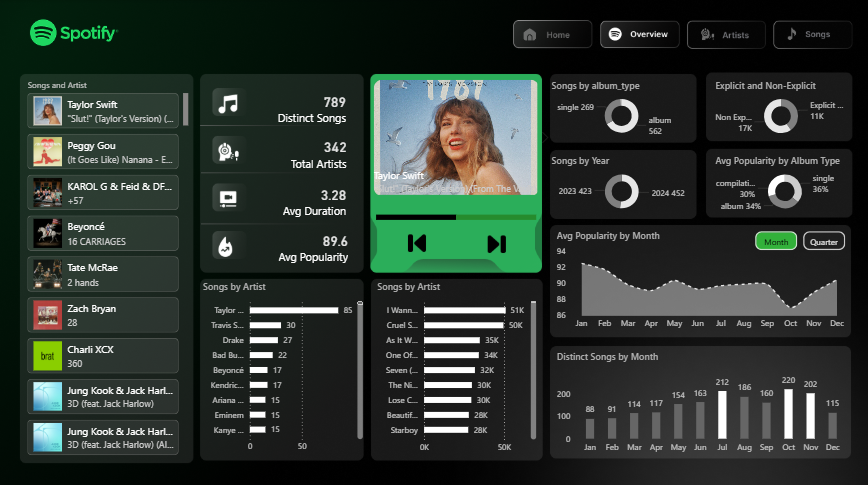

What the dashboard file says about the page in this screenshot:
{"tool":"powerbi","page":{"name":"overview","canvas":[1280,720],"ordinal":1},"visuals":[{"type":"clusteredBarChart","title":" Songs by Artist","fields":{"Y":["_Measures.Distinct Songs"],"Category":["Top-50-World.artist"]},"box":[296.3,413.4,245.1,263.4],"z":0},{"type":"clusteredBarChart","title":" Songs by Artist","fields":{"Y":["Sum(Top-50-World.popularity)"],"Category":["Top-50-World.song"]},"box":[552.2,413.4,243.7,263.8],"z":1000},{"type":"areaChart","title":"Avg Popularity by Month ","fields":{"Category":["Top-50-World.Month Short"],"Y":["_Measures.Average Popularity"]},"box":[816.1,337.4,435.5,157.9],"z":2000},{"type":"advancedSlicerVisual","fields":{"Values":["Slicer_Option.Slicer_Option"]},"box":[1107.5,336.3,143.5,38.6],"z":3000},{"type":"donutChart","title":" Songs by album_type","fields":{"Y":["_Measures.Distinct Songs"],"Category":["Top-50-World.album_type"]},"box":[808,117,216,91],"z":4000},{"type":"donutChart","title":"Explicit and Non-Explicit","fields":{"Y":["_Measures.Explicit Songs Count","_Measures.Non Explicit Songs Count"]},"box":[1048.3,116.7,203.3,91.7],"z":5000},{"type":"donutChart","title":" Songs by Year","fields":{"Y":["_Measures.Distinct Songs"],"Category":["Top-50-World.Year"]},"box":[807.8,228.9,216.7,91.1],"z":6000},{"type":"donutChart","title":"Avg Popularity by Album Type","fields":{"Category":["Top-50-World.album_type"],"Y":["_Measures.Average Popularity"]},"box":[1048.9,228.9,214.4,91.1],"z":7000},{"type":"clusteredColumnChart","fields":{"Category":["Top-50-World.Month Short"],"Y":["_Measures.Distinct Songs"]},"box":[816,516.7,435,160.4],"z":8000},{"type":"cardVisual","fields":{"Data":["_Measures.Distinct Songs"]},"box":[379.3,117.1,160,90.7],"z":9000},{"type":"cardVisual","fields":{"Data":["_Measures.Total Artists"]},"box":[390,187,149,84],"z":10000},{"type":"cardVisual","fields":{"Data":["_Measures.Average Duration (Minutes)"]},"box":[369,260,170,77],"z":11000},{"type":"cardVisual","fields":{"Data":["_Measures.Average Popularity"]},"box":[353,330,188,73],"z":12000},{"type":"image","box":[324.2,345.8,29.2,36.7],"z":13000},{"type":"image","box":[324.2,270.8,28.3,45.8],"z":14000},{"type":"image","box":[324.2,207.5,29.2,32.5],"z":15000},{"type":"image","box":[324.2,140.8,28.3,27.5],"z":16000},{"type":"advancedSlicerVisual","title":"Songs and Artist","fields":{"Values":["Top-50-World.song"],"Label":["Min(Top-50-World.artist)"]},"box":[38.6,117.2,246.8,558.4],"z":17000},{"type":"advancedSlicerVisual","title":"Songs and Artist","fields":{"Values":["Top-50-World.song"],"Label":["Min(Top-50-World.artist)"]},"box":[526.2,112.5,293.8,181.2],"z":18000},{"type":"hundredPercentStackedBarChart","fields":{"Y":["_Measures.Avg Popularity","Avg(Top-50-World.popularity)"]},"box":[550.7,282.3,245.3,71],"z":19000},{"type":"group","id":"g1","title":"Group 1","box":[595.4,344,157.3,32.4],"z":20000},{"type":"image","box":[713,345.5,40,30],"z":20000,"group":"g1"},{"type":"shape","box":[550.7,112.6,245.3,290],"z":21000},{"type":"image","box":[595.4,344,40,30],"z":21000,"group":"g1"},{"type":"actionButton","box":[757,32.1,114.1,40.1],"z":22000},{"type":"actionButton","box":[883.5,32.1,114.1,40.1],"z":23000},{"type":"actionButton","box":[1010,32.1,114.1,40.1],"z":24000},{"type":"actionButton","box":[1136.5,32.1,114.1,40.1],"z":25000}]}

Visuals, with their boxes in screenshot pixels (x1, y1, x2, y2), scaled from the page's 1280x720 canvas onto the 868x485 screenshot:
" Songs by Artist" clusteredBarChart: 201 278 367 456
" Songs by Artist" clusteredBarChart: 374 278 540 456
"Avg Popularity by Month " areaChart: 553 227 849 334
advancedSlicerVisual - Slicer_Option.Slicer_Option: 751 227 848 253
" Songs by album_type" donutChart: 548 79 694 140
"Explicit and Non-Explicit" donutChart: 711 79 849 140
" Songs by Year" donutChart: 548 154 695 216
"Avg Popularity by Album Type" donutChart: 711 154 857 216
clusteredColumnChart - Top-50-World.Month Short x _Measures.Distinct Songs: 553 348 848 456
cardVisual - _Measures.Distinct Songs: 257 79 366 140
cardVisual - _Measures.Total Artists: 264 126 366 183
cardVisual - _Measures.Average Duration (Minutes): 250 175 366 227
cardVisual - _Measures.Average Popularity: 239 222 367 271
image: 220 233 240 258
image: 220 182 239 213
image: 220 140 240 162
image: 220 95 239 113
"Songs and Artist" advancedSlicerVisual: 26 79 194 455
"Songs and Artist" advancedSlicerVisual: 357 76 556 198
hundredPercentStackedBarChart - _Measures.Avg Popularity x Avg(Top-50-World.popularity): 373 190 540 238
"Group 1" group: 404 232 510 254
image: 484 233 511 253
shape: 373 76 540 271
image: 404 232 431 252
actionButton: 513 22 591 49
actionButton: 599 22 676 49
actionButton: 685 22 762 49
actionButton: 771 22 848 49
